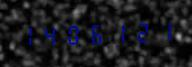four: (39, 21, 60, 48)
one: (17, 22, 38, 48), (105, 19, 126, 45), (149, 18, 170, 44)
six: (83, 20, 104, 46)
two: (127, 18, 148, 45)
zero: (61, 21, 82, 47)
